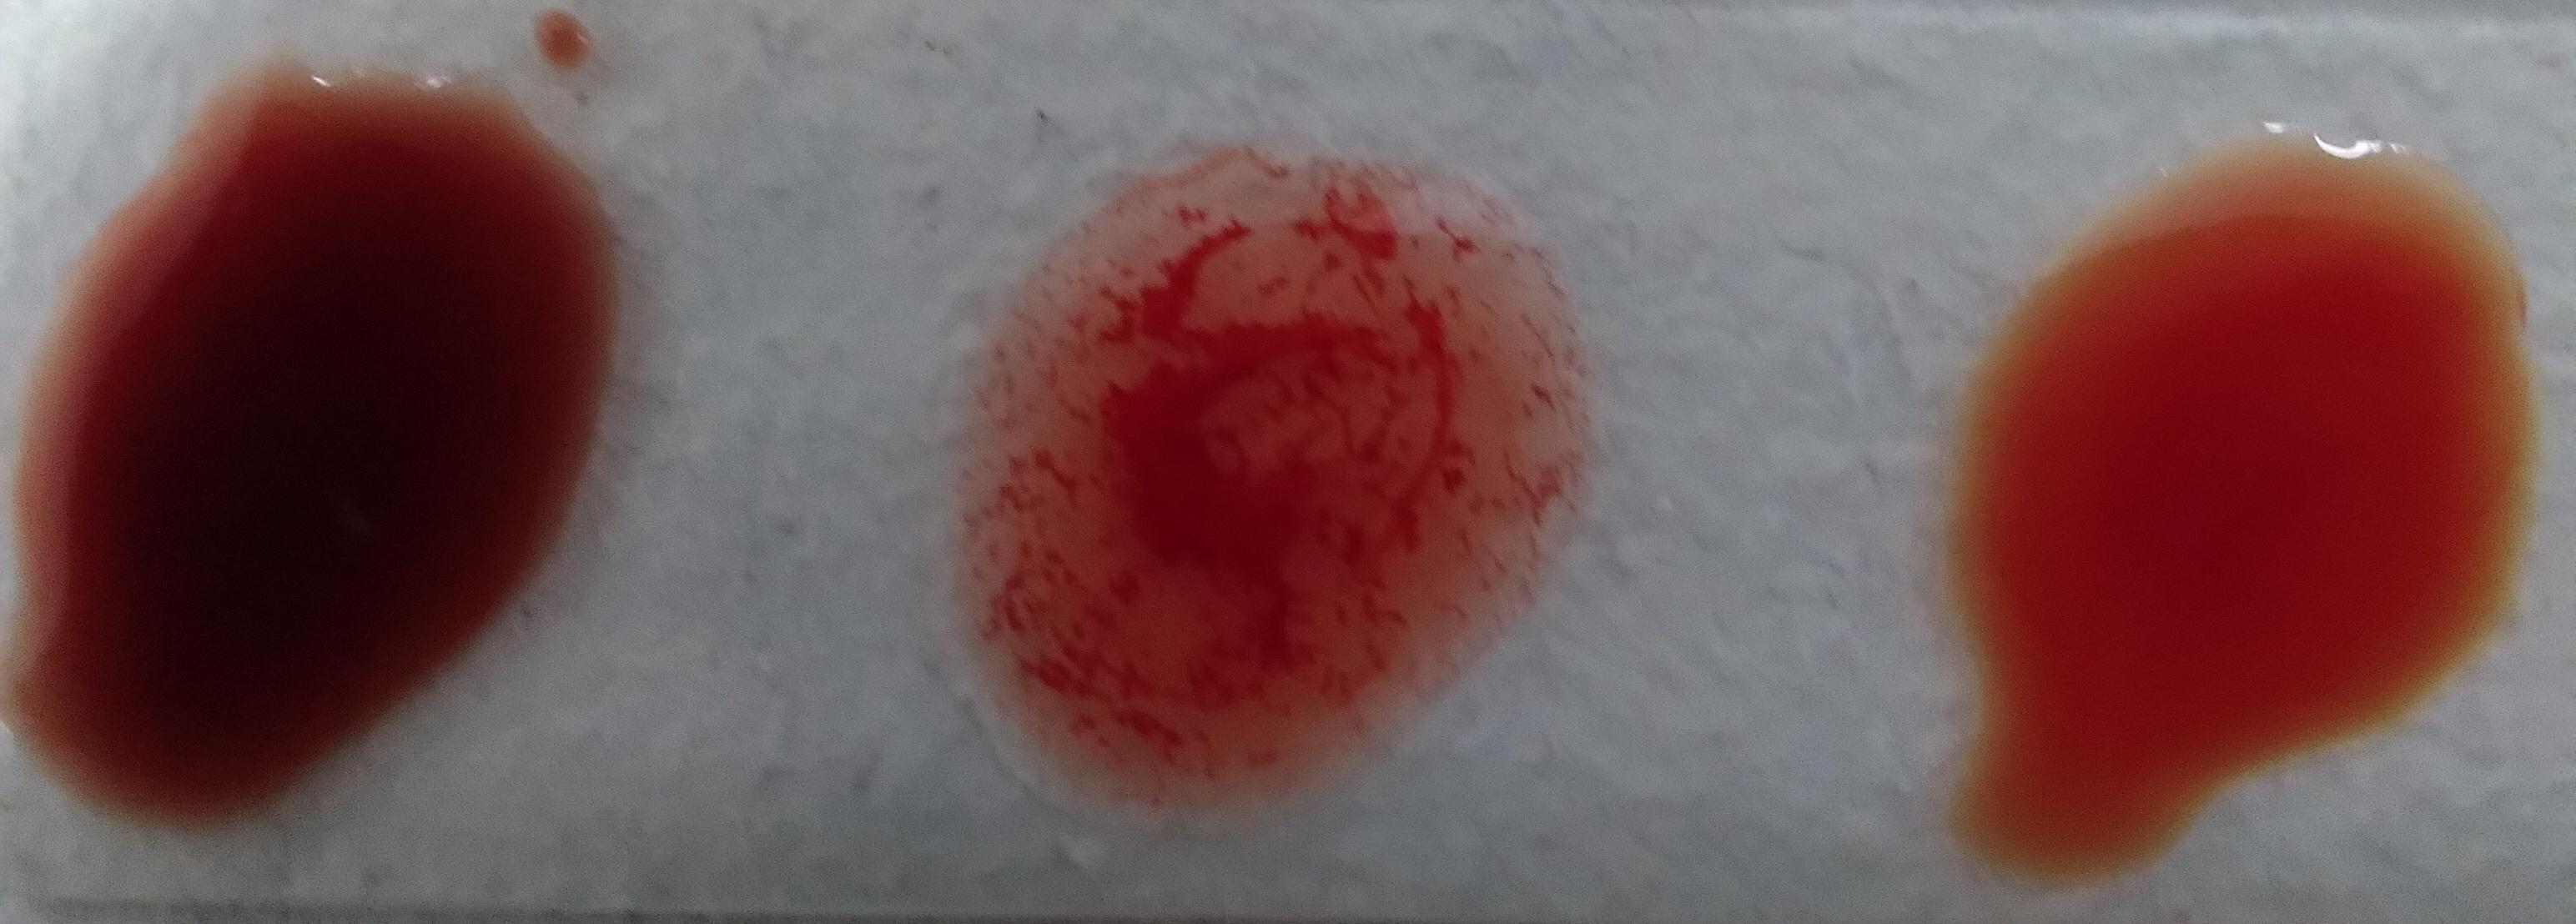D: (1022, 100, 1612, 773)
